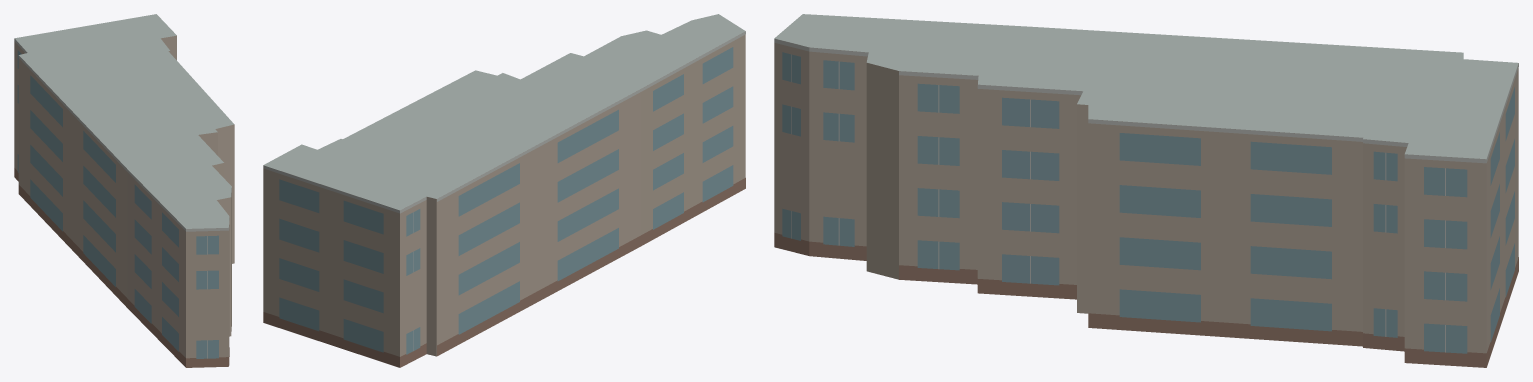
The model's file is survey-upis-32969520.glb.
3 views of the same model, side by side, from view 1: azimuth 30°, elevation 25°; view 2: azimuth 150°, elevation 25°; view 3: azimuth 270°, elevation 25° (orthographic). The views are drawn at different scales.
Visible parts, largest first — view 1: survey-upis-32969520.tmp; view 2: survey-upis-32969520.tmp; view 3: survey-upis-32969520.tmp.
Part boxes in pixels (x1,y1,x2,y2): survey-upis-32969520.tmp: [14, 14, 234, 367]; survey-upis-32969520.tmp: [263, 14, 745, 367]; survey-upis-32969520.tmp: [774, 14, 1518, 367].
Bounding box in the file's own units: 18.21 × 12.2 × 39.45.
